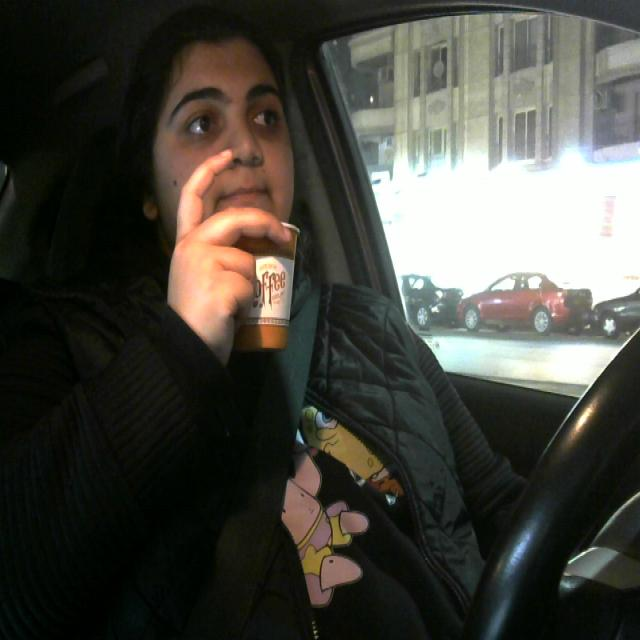drinking: (225, 208, 305, 375)
